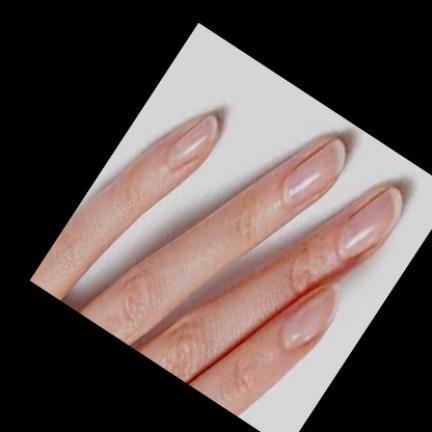Nail: (338, 188, 403, 258), (282, 139, 346, 205), (280, 286, 338, 351), (166, 115, 218, 168)
